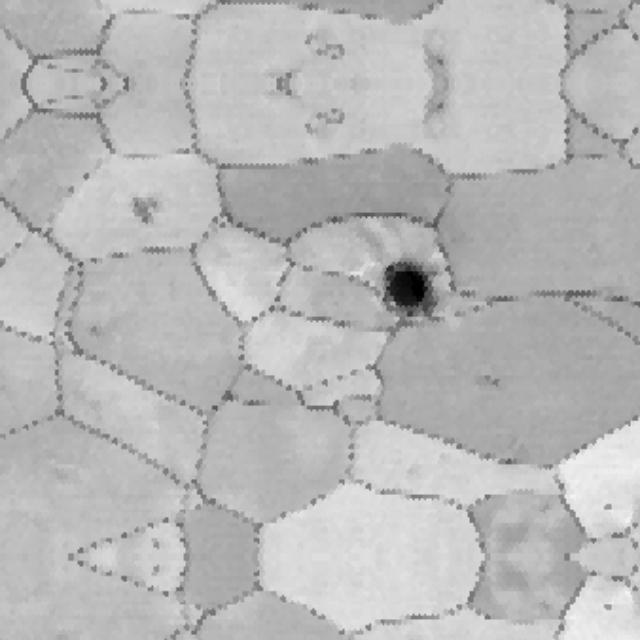good_void: (371, 253, 446, 320), (406, 74, 467, 131), (406, 35, 467, 92), (296, 99, 353, 143), (296, 23, 353, 67), (126, 186, 166, 228), (474, 366, 514, 398), (263, 82, 306, 102), (263, 64, 306, 84), (237, 392, 273, 411), (88, 320, 104, 342), (148, 534, 164, 553), (148, 560, 164, 579), (601, 499, 616, 515), (601, 598, 616, 613)
